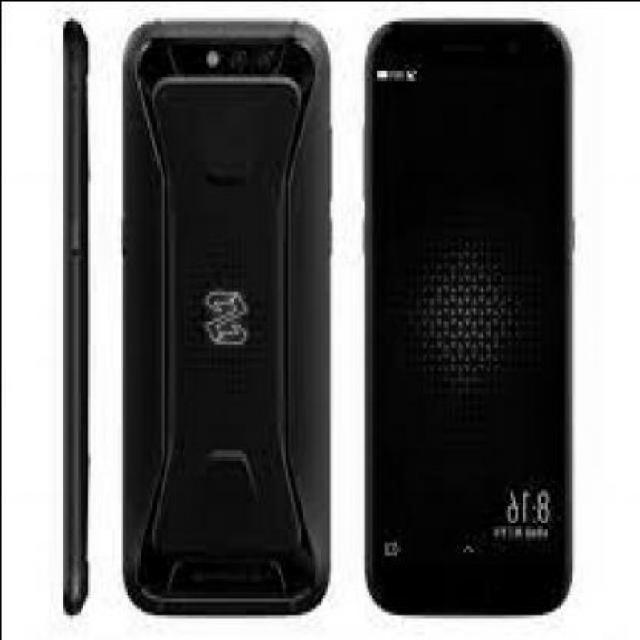fake: (115, 14, 334, 617), (360, 14, 576, 617)
